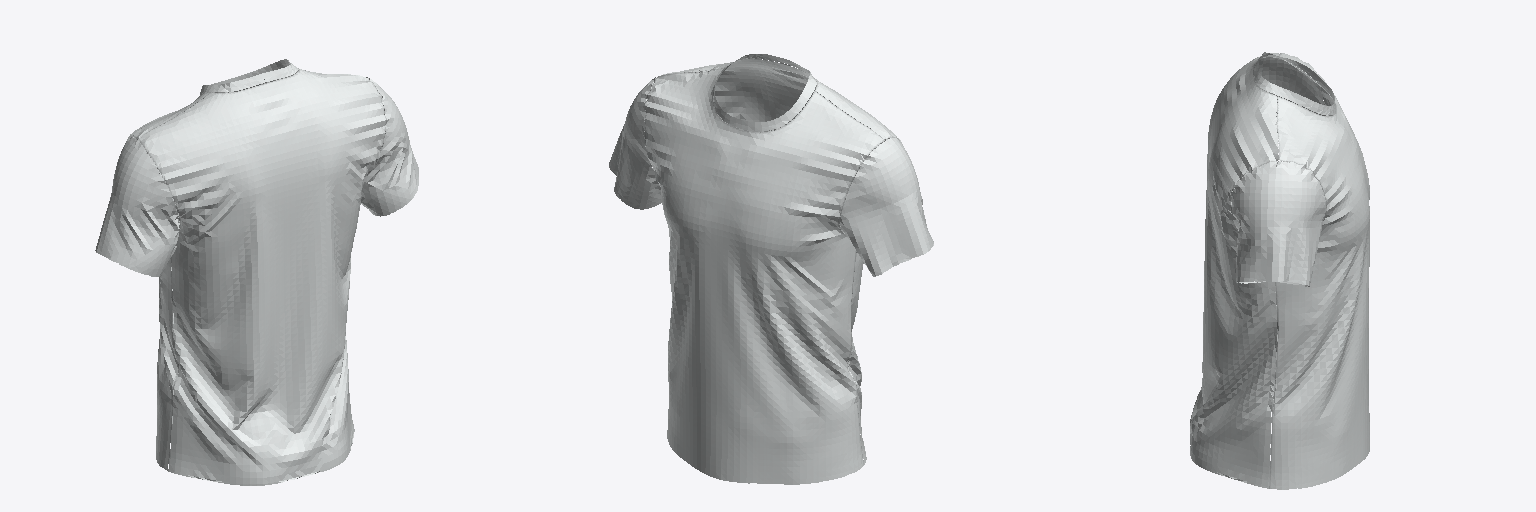
The picture shows the model from 3 angles: view 1: azimuth 30°, elevation 25°; view 2: azimuth 150°, elevation 25°; view 3: azimuth 270°, elevation 25°; orthographic projection.
Visible parts, largest first — view 1: bwSec_2, bwSec_4, bwSec_3, bwSec_1, bwSec_0; view 2: bwSec_1, bwSec_4, bwSec_2, bwSec_3, bwSec_0; view 3: bwSec_1, bwSec_2, bwSec_3, bwSec_4, bwSec_0.
Boxes of the visible parts, x1=… form: bwSec_2: x1=139, y1=69, x2=386, y2=485; bwSec_4: x1=95, y1=136, x2=179, y2=276; bwSec_3: x1=361, y1=78, x2=418, y2=216; bwSec_1: x1=130, y1=68, x2=367, y2=470; bwSec_0: x1=200, y1=59, x2=298, y2=94; bwSec_1: x1=645, y1=67, x2=884, y2=484; bwSec_4: x1=839, y1=138, x2=933, y2=276; bwSec_2: x1=658, y1=59, x2=900, y2=464; bwSec_3: x1=609, y1=77, x2=661, y2=209; bwSec_0: x1=713, y1=54, x2=816, y2=131; bwSec_1: x1=1269, y1=53, x2=1369, y2=489; bwSec_2: x1=1190, y1=53, x2=1278, y2=488; bwSec_3: x1=1231, y1=161, x2=1325, y2=286; bwSec_4: x1=1254, y1=57, x2=1325, y2=132; bwSec_0: x1=1254, y1=52, x2=1335, y2=115.
Size of the model in its own units: 5.53 by 6.31 by 2.71.
1 materials, 1 textured.